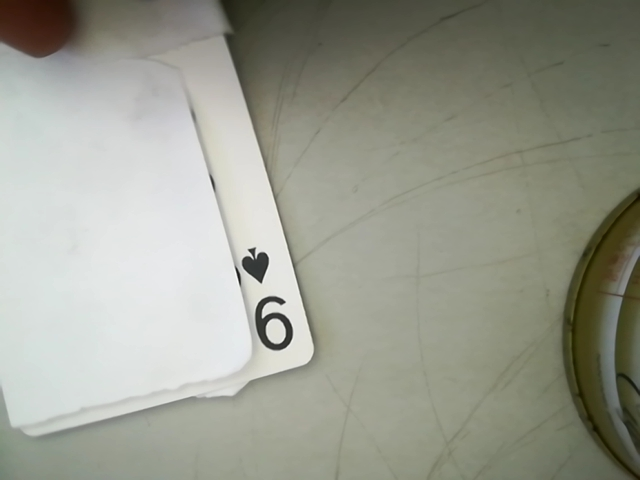ht 9: (221, 222, 305, 366)
